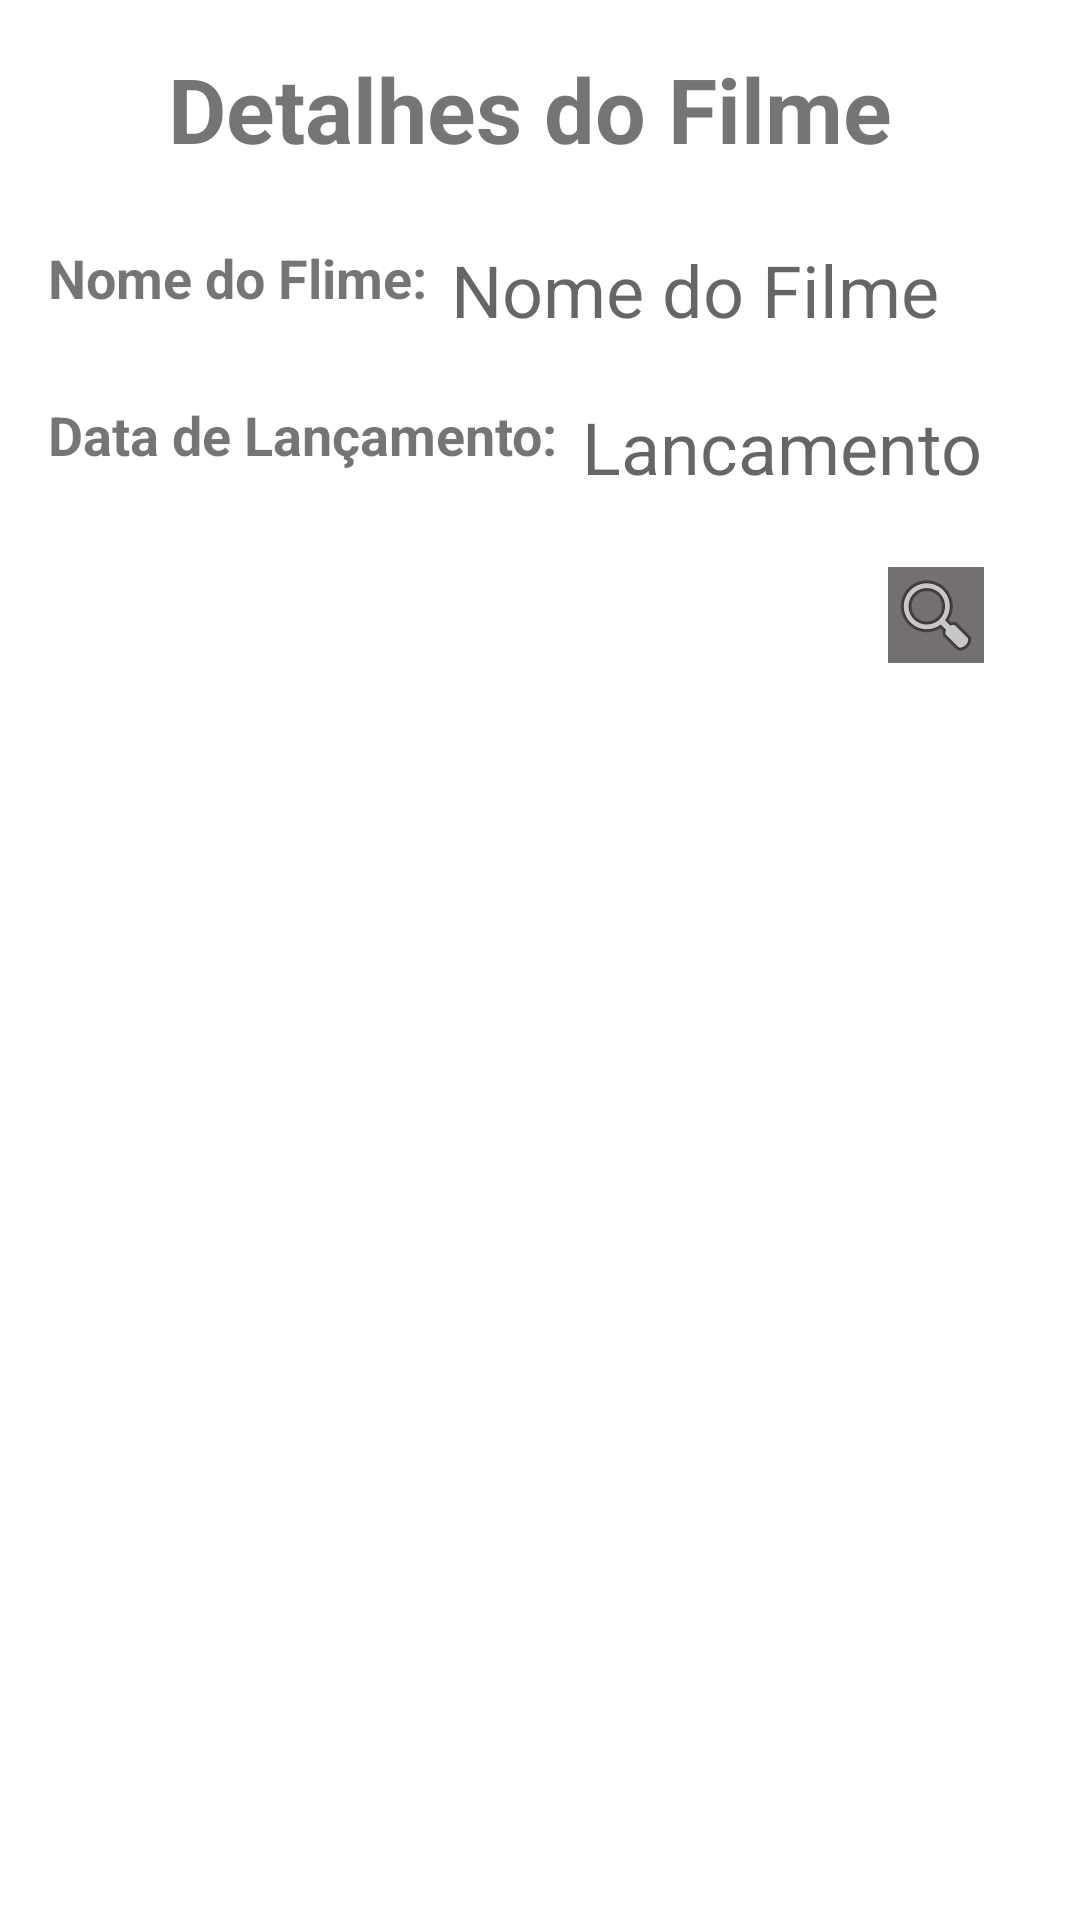

Icons on this 1080×1920 Android screen, each with its box as box(x1, y1, x2, y2):
search: box(888, 567, 984, 663)
